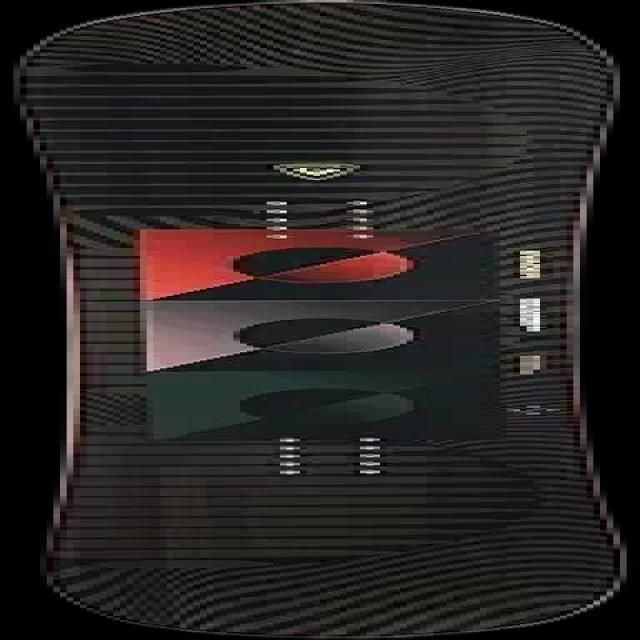Snowboard: (13, 1, 630, 638)
